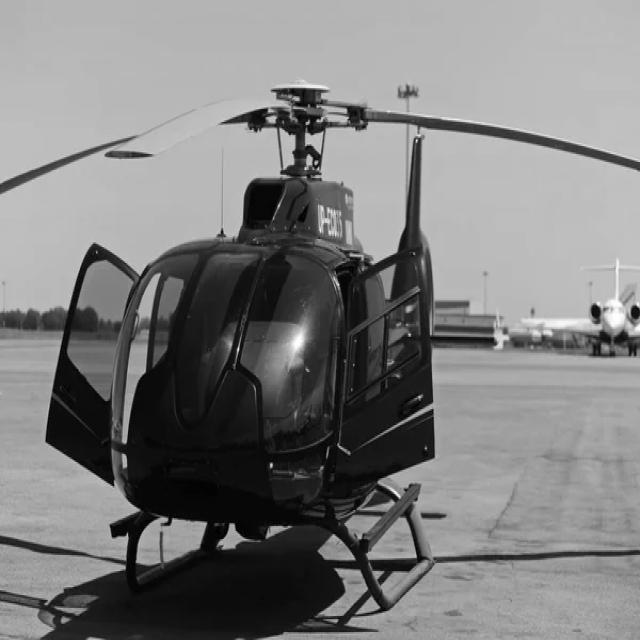Helicopter: (0, 81, 639, 610)
